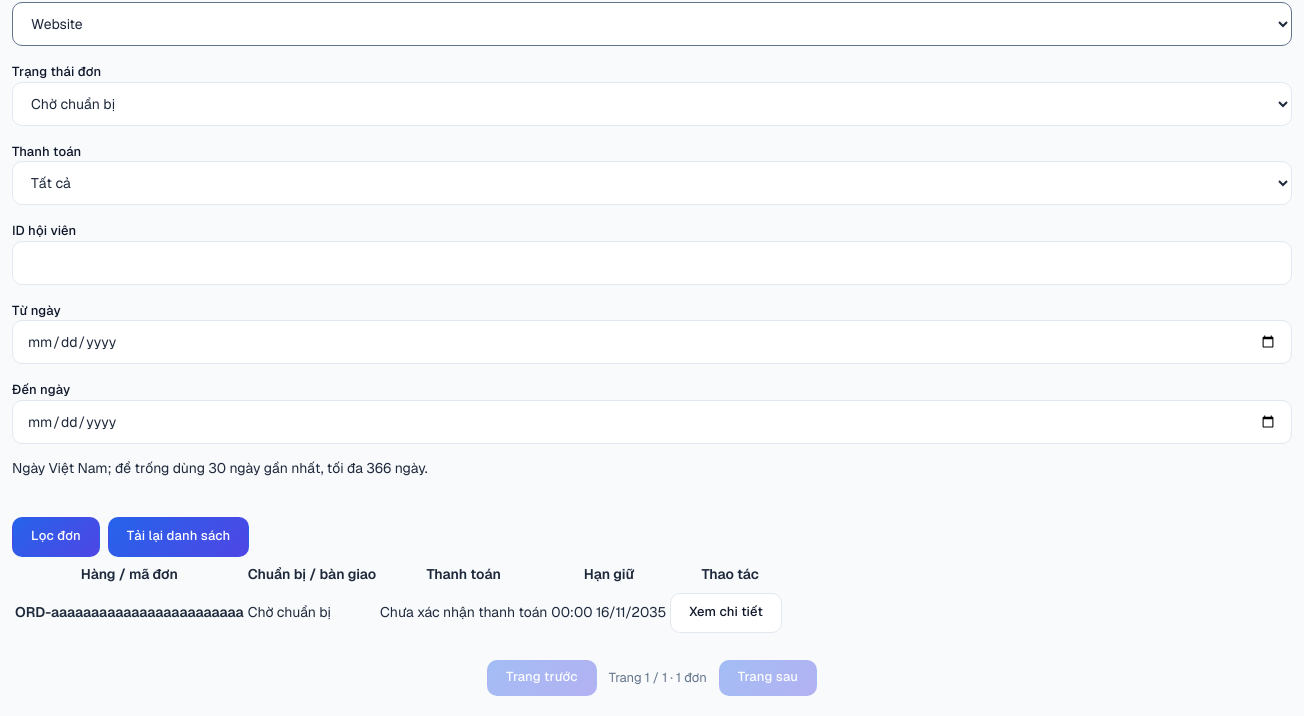
US-43 TC12: list/detail, command recovery and separate operational/payment states › removes the action after backend denies permission
(page scrolled)
Click the button "Xem chi tiết".
click(726, 613)  # box [670,593,782,633]
(page scrolled)
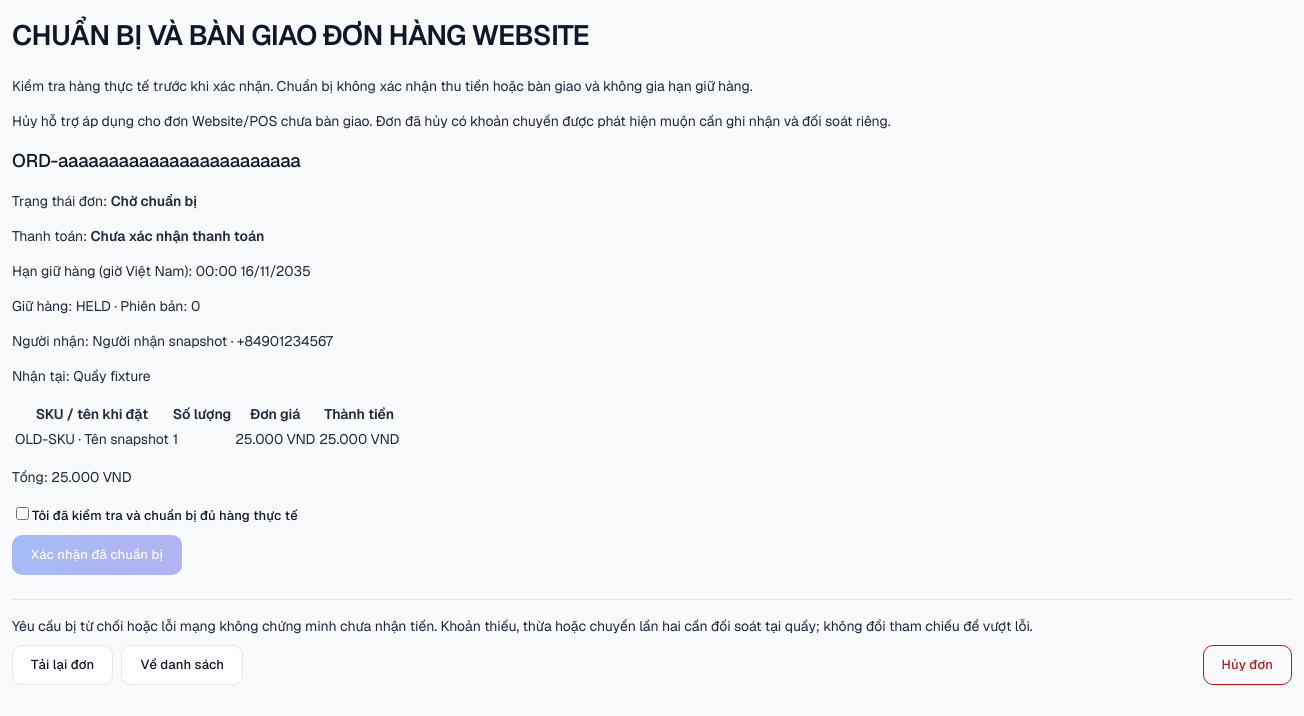
Click the checkbox labelled "Tôi đã kiểm tra và chuẩn bị đủ hàng thực tế".
click(22, 513)  # box [16,507,29,520]
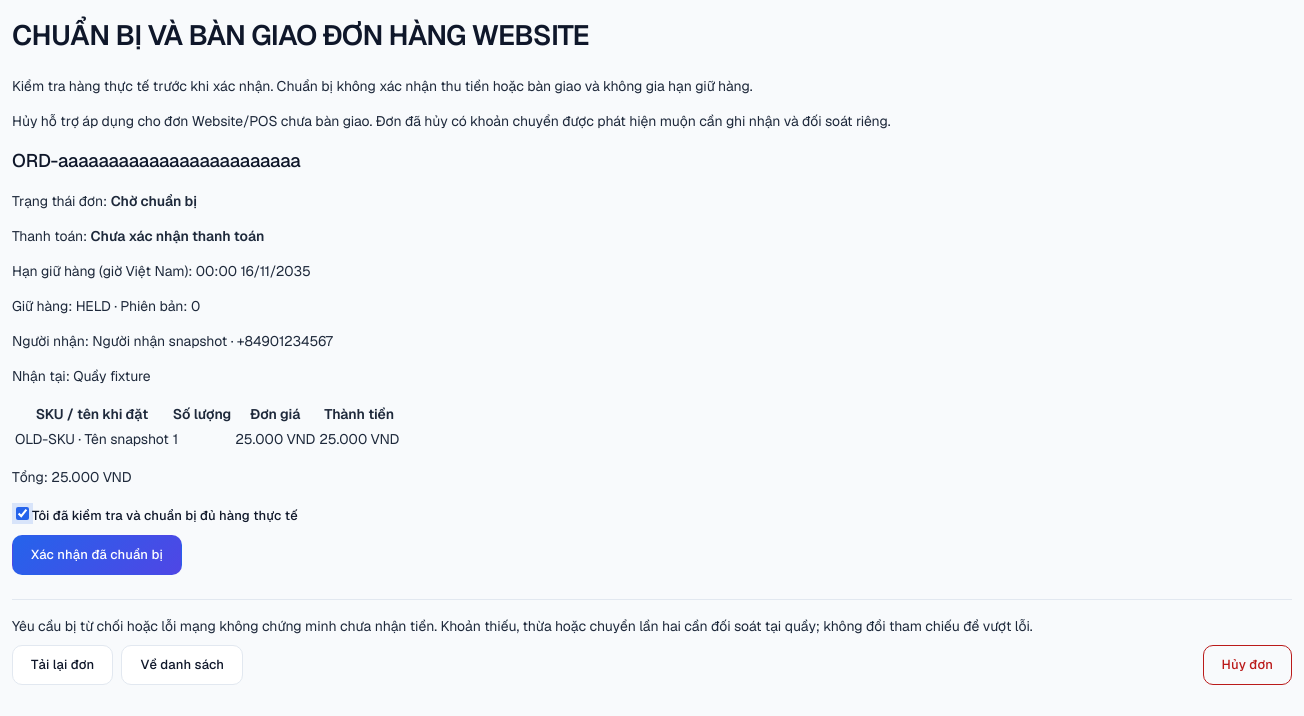
Click the button "Xác nhận đã chuẩn bị".
click(97, 555)  # box [12,535,182,575]
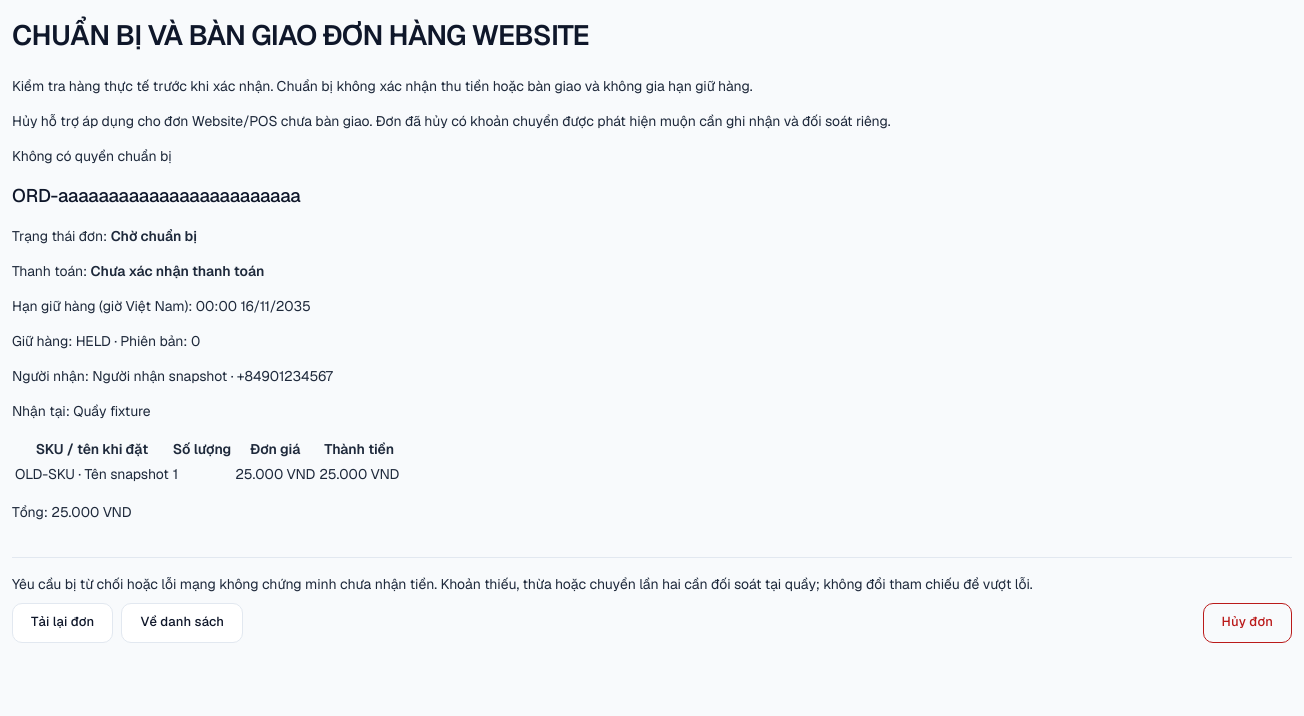
Now the text "Không có quyền chuẩn bị" is shown, box [12,147,172,165]
Now the button "Xác nhận đã chuẩn bị" is gone
